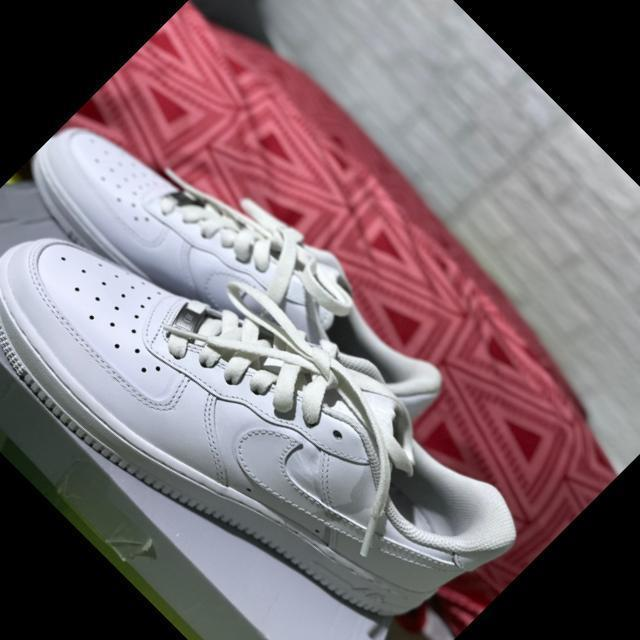nike original air force: (0, 121, 539, 640), (14, 59, 483, 528)
